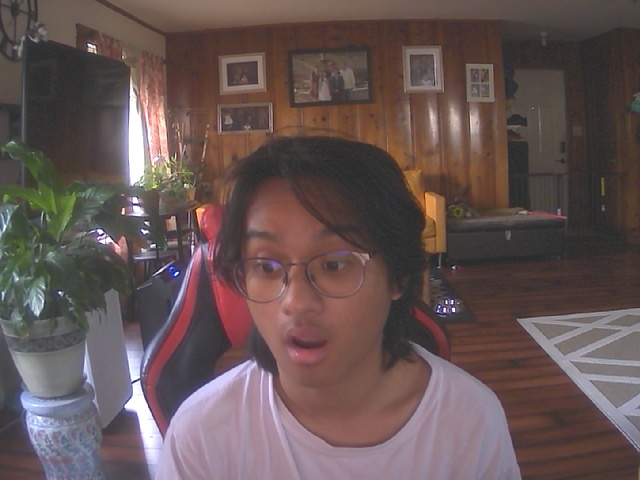fear: (224, 148, 420, 388)
